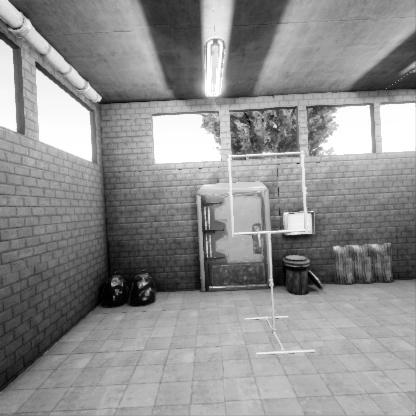gate: (227, 183, 312, 268)
